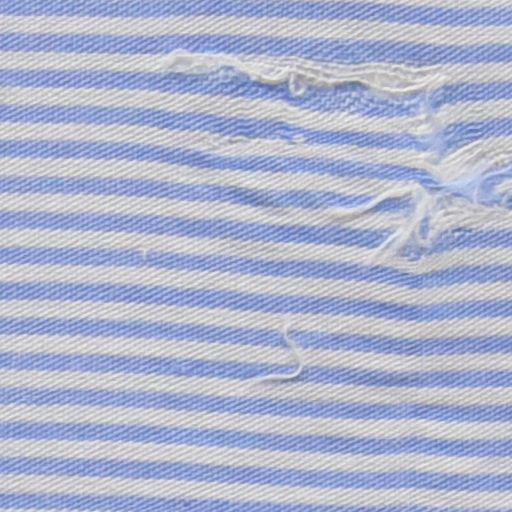defect: (160, 41, 512, 283), (245, 314, 317, 402)
